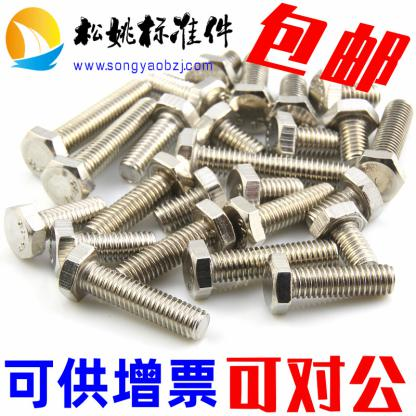FOD: (56, 242, 212, 341), (19, 76, 153, 178), (80, 151, 195, 242), (260, 250, 397, 315), (220, 182, 336, 250), (2, 194, 107, 259), (352, 97, 414, 201), (306, 199, 378, 269), (263, 111, 346, 158)
